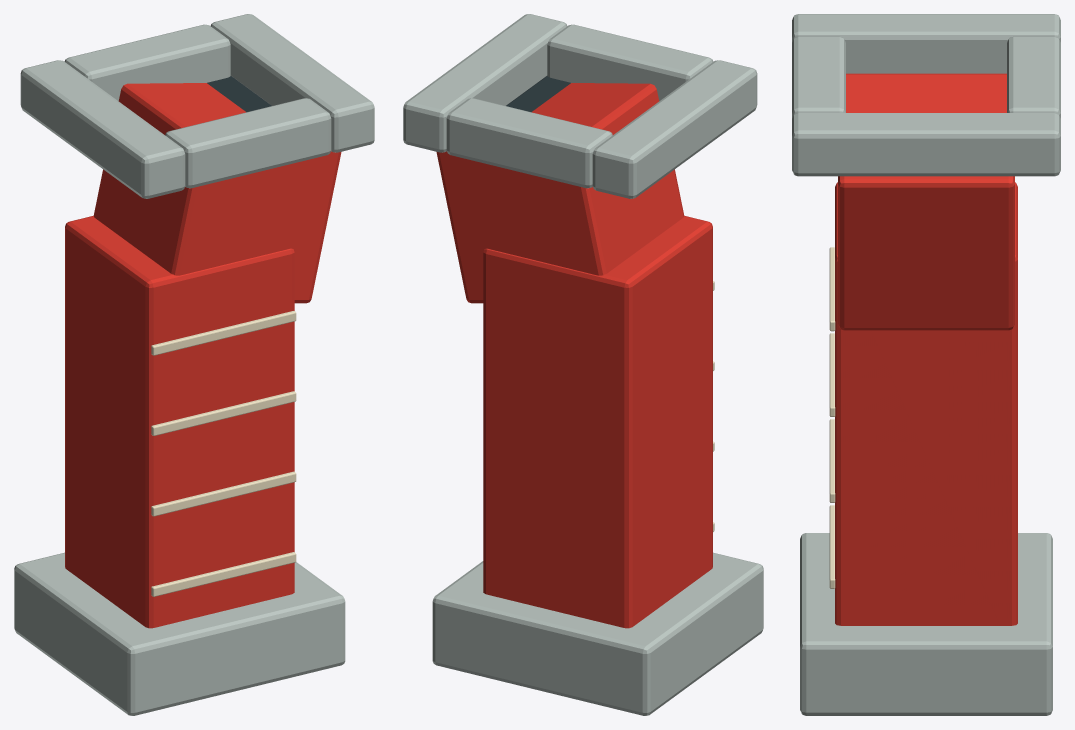
The model's file is S020_crooked_chimney.glb.
3 views of the same model, side by side, from view 1: azimuth 30°, elevation 25°; view 2: azimuth 150°, elevation 25°; view 3: azimuth 270°, elevation 25° (orthographic). The views are drawn at different scales.
Visible parts, largest first — view 1: brick_stack, chimney_base, crooked_top, rim_side, rim_end, rim_side.001, rim_end.001, mortar_line.001, mortar_line.003, mortar_line, mortar_line.002, dark_chimney_hole; view 2: brick_stack, chimney_base, crooked_top, rim_side, rim_end.001, rim_side.001, rim_end, dark_chimney_hole; view 3: brick_stack, crooked_top, chimney_base, rim_side.001, rim_side, rim_end, rim_end.001, mortar_line.003, mortar_line.002, mortar_line, mortar_line.001.
Part boxes in pixels (<box>): brick_stack: <box>65,216,294,628</box>; chimney_base: <box>14,552,345,715</box>; crooked_top: <box>93,83,341,303</box>; rim_side: <box>20,60,185,198</box>; rim_end: <box>165,98,331,188</box>; rim_side.001: <box>210,14,374,152</box>; rim_end.001: <box>64,24,230,100</box>; mortar_line.001: <box>151,471,296,516</box>; mortar_line.003: <box>151,311,296,355</box>; mortar_line: <box>151,552,296,596</box>; mortar_line.002: <box>151,391,296,435</box>; dark_chimney_hole: <box>207,76,271,112</box>; brick_stack: <box>483,216,712,628</box>; chimney_base: <box>432,552,763,715</box>; crooked_top: <box>436,83,684,303</box>; rim_side: <box>592,60,757,198</box>; rim_end.001: <box>446,98,612,188</box>; rim_side.001: <box>403,14,567,152</box>; rim_end: <box>547,24,713,100</box>; dark_chimney_hole: <box>506,76,570,112</box>; brick_stack: <box>835,182,1017,625</box>; crooked_top: <box>838,73,1014,330</box>; chimney_base: <box>800,533,1052,715</box>; rim_side.001: <box>792,113,1060,176</box>; rim_side: <box>792,14,1060,73</box>; rim_end: <box>792,36,845,118</box>; rim_end.001: <box>1007,36,1060,118</box>; mortar_line.003: <box>829,247,835,331</box>; mortar_line.002: <box>829,333,835,416</box>; mortar_line: <box>829,505,835,588</box>; mortar_line.001: <box>829,419,835,502</box>.
Bounding box in the file's own units: 0.95 × 2.09 × 0.85.
